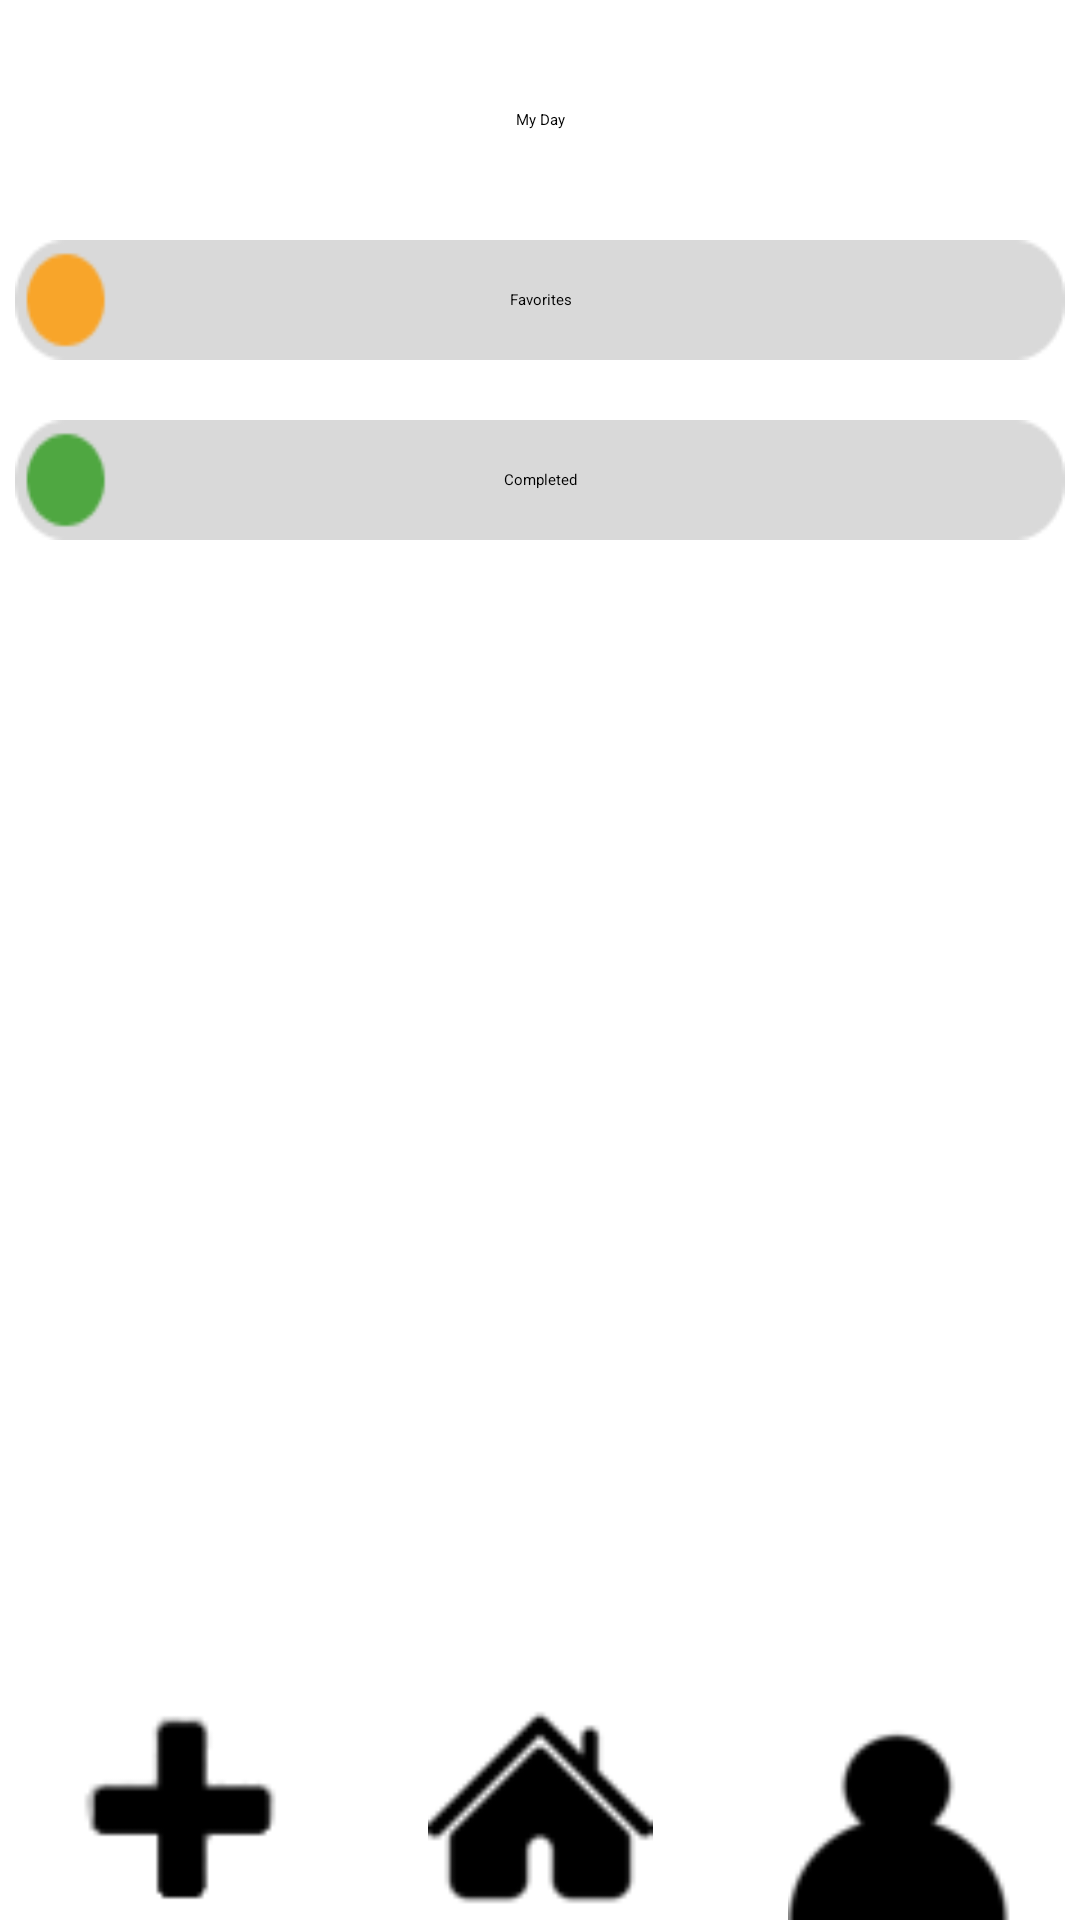

Named icons in this screenshot (1080w x 1920h) and their centers, point (x, y):
home: point (540, 1808)
plus: point (180, 1808)
profile: point (898, 1826)
